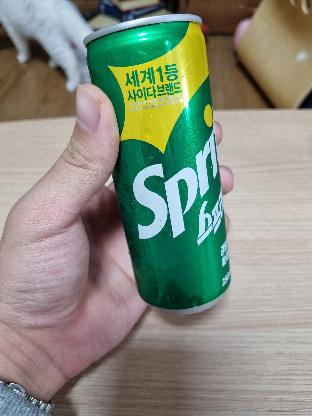Can: (81, 13, 231, 320)
